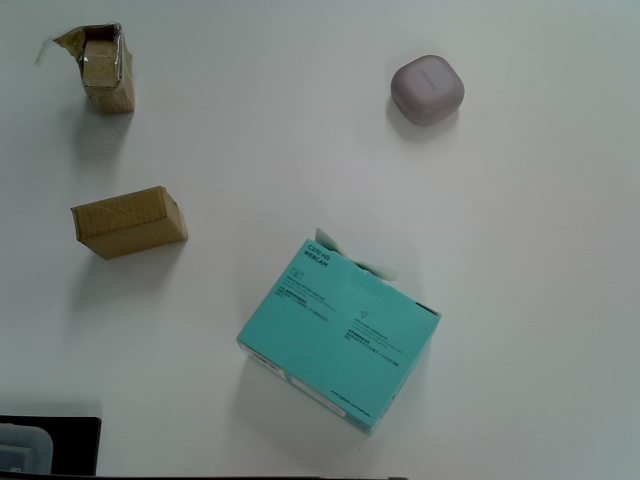defect: (35, 23, 134, 113)
normal: (71, 185, 190, 260)
